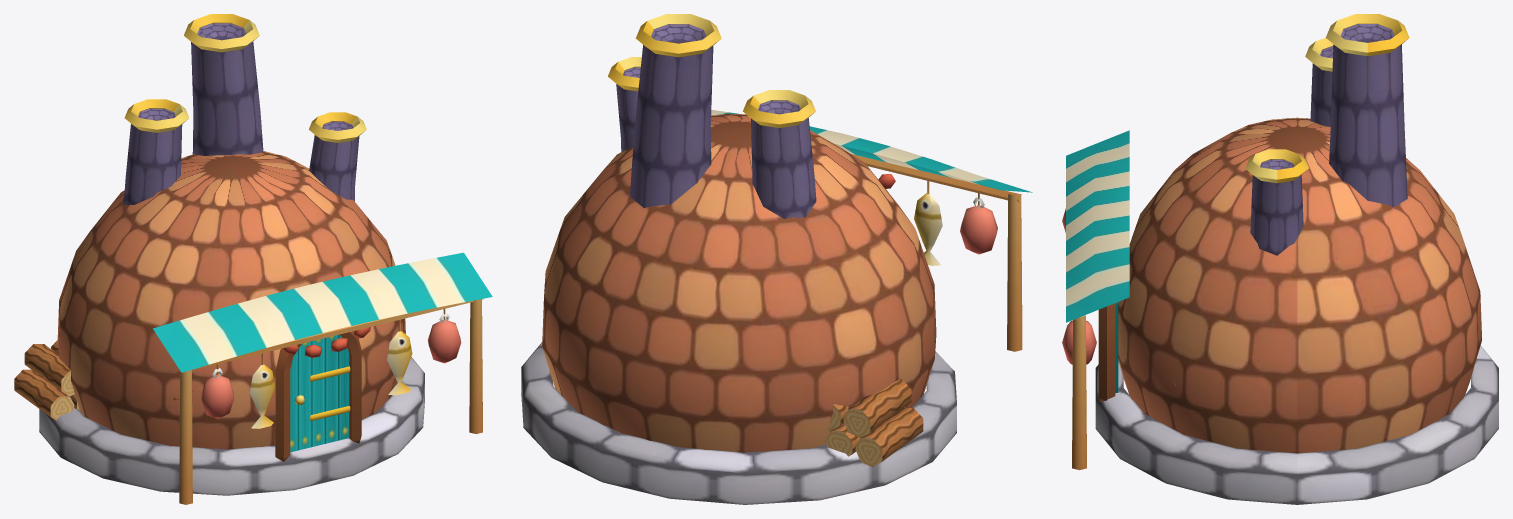
Rendered from smokehouse.glb.
3 views of the same model, side by side, from view 1: azimuth 30°, elevation 25°; view 2: azimuth 150°, elevation 25°; view 3: azimuth 270°, elevation 25° (orthographic). The views are drawn at different scales.
Parts seen in each view (by area): view 1: smokehouse; view 2: smokehouse; view 3: smokehouse.
Part boxes in pixels (<box>): smokehouse: <box>14,14,492,504</box>; smokehouse: <box>521,14,1032,504</box>; smokehouse: <box>1062,14,1498,504</box>.
Size of the model in its own units: 6.52 by 6.53 by 6.52.
4 materials, 4 textured.
